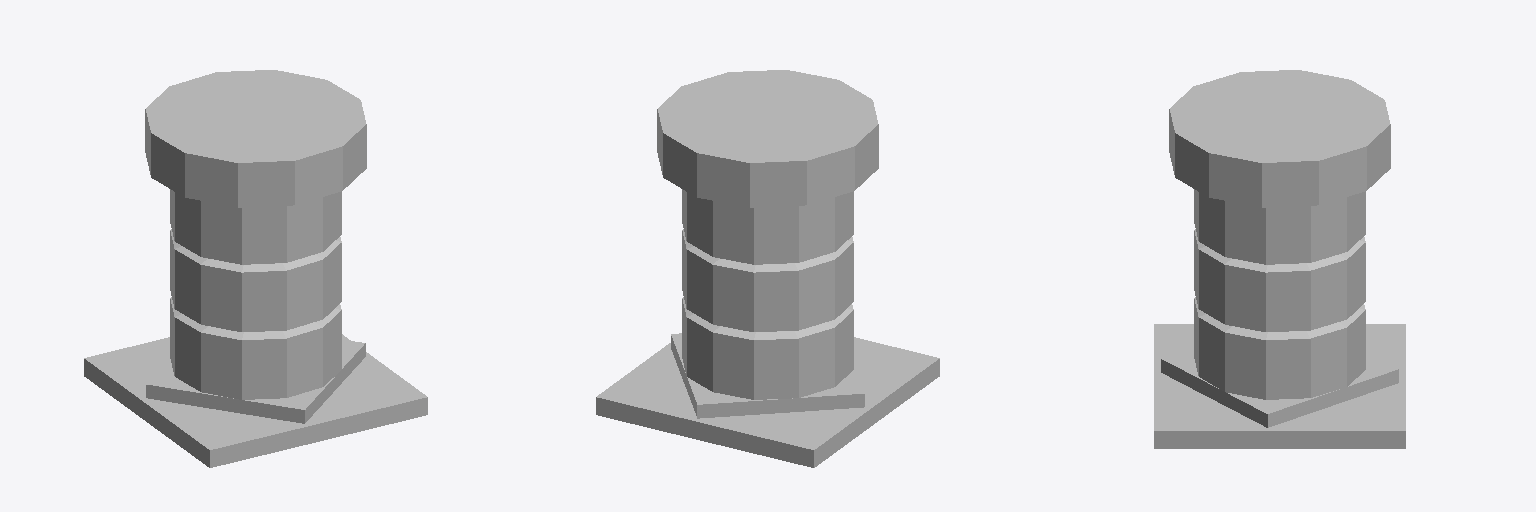
Rendered from Pillar3 (1).obj.
The picture shows the model from 3 angles: view 1: azimuth 30°, elevation 25°; view 2: azimuth 150°, elevation 25°; view 3: azimuth 270°, elevation 25°; orthographic projection.
Parts seen in each view (by area): view 1: Plane; view 2: Plane; view 3: Plane.
Part boxes in pixels (bbox=[...]): Plane: bbox=[84, 70, 427, 467]; Plane: bbox=[596, 70, 939, 467]; Plane: bbox=[1154, 70, 1405, 448].
Size of the model in its own units: 2 by 2.44 by 2.